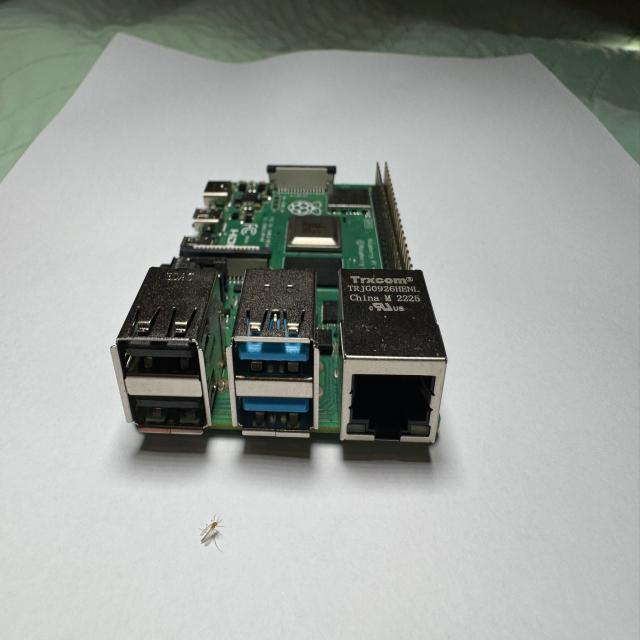CPU: (283, 214, 346, 252)
Ethernet: (334, 266, 454, 455)
GPIO: (368, 162, 419, 268)
RAM: (283, 253, 341, 286)
Raspberry: (109, 149, 446, 453)
micro-hdmi: (195, 205, 229, 234)
